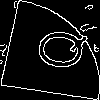Q: (25, 24, 90, 73)
